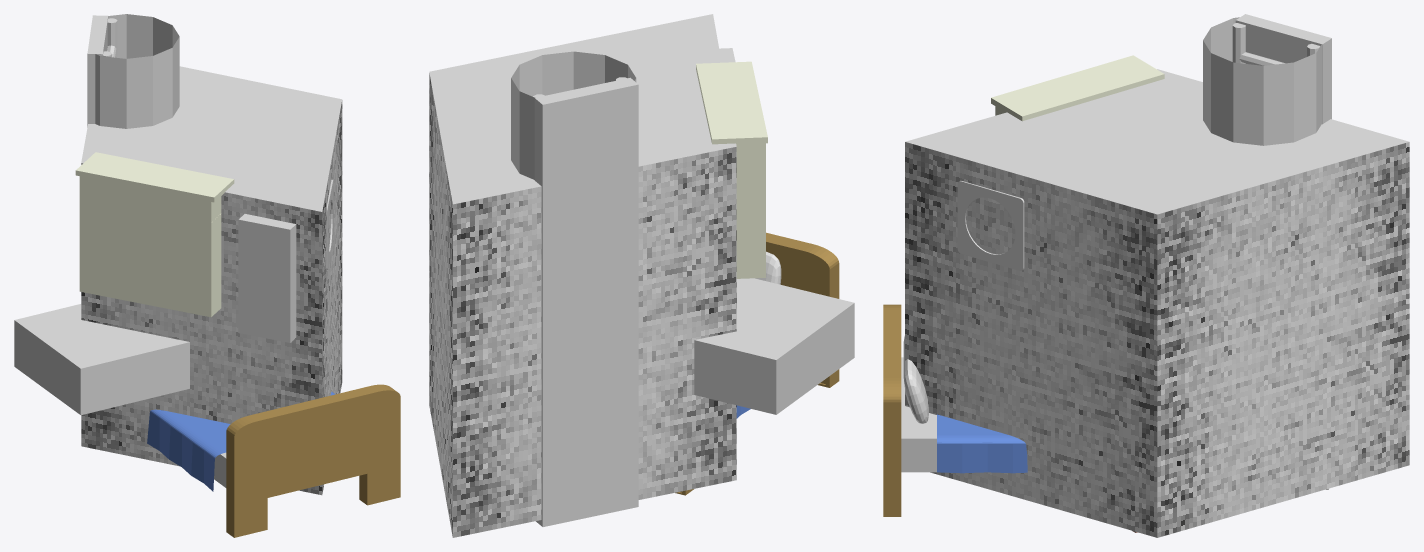
The model's file is SewerStage.fbx.
3 views of the same model, side by side, from view 1: azimuth 30°, elevation 25°; view 2: azimuth 150°, elevation 25°; view 3: azimuth 270°, elevation 25° (orthographic). The views are drawn at different scales.
Parts seen in each view (by area): view 1: roomRoof, roomWalls, bookshelf, headboard, computerShelf, Cube.001, roomWalls.001, Plane, ladderHolder, fanBody.001; view 2: roomWalls, ladderHolder, roomRoof, computerShelf, bookshelf, roomWalls.001, headboard; view 3: roomWalls.001, roomRoof, bookshelf, Plane, headboard, ladderHolder, fanBody.001, mattress, pillow, ladder.
Boxes of the visible parts, left/top/right/bottom form: roomRoof: left=81, top=14, right=342, bottom=211; roomWalls: left=81, top=163, right=322, bottom=495; bookshelf: left=75, top=152, right=234, bottom=317; headboard: left=226, top=384, right=400, bottom=537; computerShelf: left=14, top=304, right=189, bottom=415; Cube.001: left=238, top=214, right=296, bottom=342; roomWalls.001: left=322, top=100, right=342, bottom=493; Plane: left=147, top=392, right=335, bottom=491; ladderHolder: left=87, top=15, right=108, bottom=127; fanBody.001: left=326, top=179, right=333, bottom=270; roomWalls: left=453, top=147, right=736, bottom=537; ladderHolder: left=534, top=77, right=638, bottom=526; roomRoof: left=429, top=14, right=736, bottom=204; computerShelf: left=694, top=278, right=854, bottom=414; bookshelf: left=696, top=61, right=767, bottom=278; roomWalls.001: left=429, top=73, right=452, bottom=537; headboard: left=766, top=232, right=839, bottom=387; roomWalls.001: left=905, top=142, right=1409, bottom=537; roomRoof: left=905, top=17, right=1409, bottom=214; bookshelf: left=991, top=55, right=1164, bottom=121; Plane: left=937, top=414, right=1027, bottom=473; headboard: left=883, top=304, right=901, bottom=516; ladderHolder: left=1235, top=14, right=1331, bottom=124; fanBody.001: left=957, top=180, right=1024, bottom=270; mattress: left=901, top=357, right=936, bottom=472; pillow: left=903, top=336, right=928, bottom=423; ladder: left=1232, top=23, right=1320, bottom=65.
Size of the model in its own units: 483 by 543 by 620.
